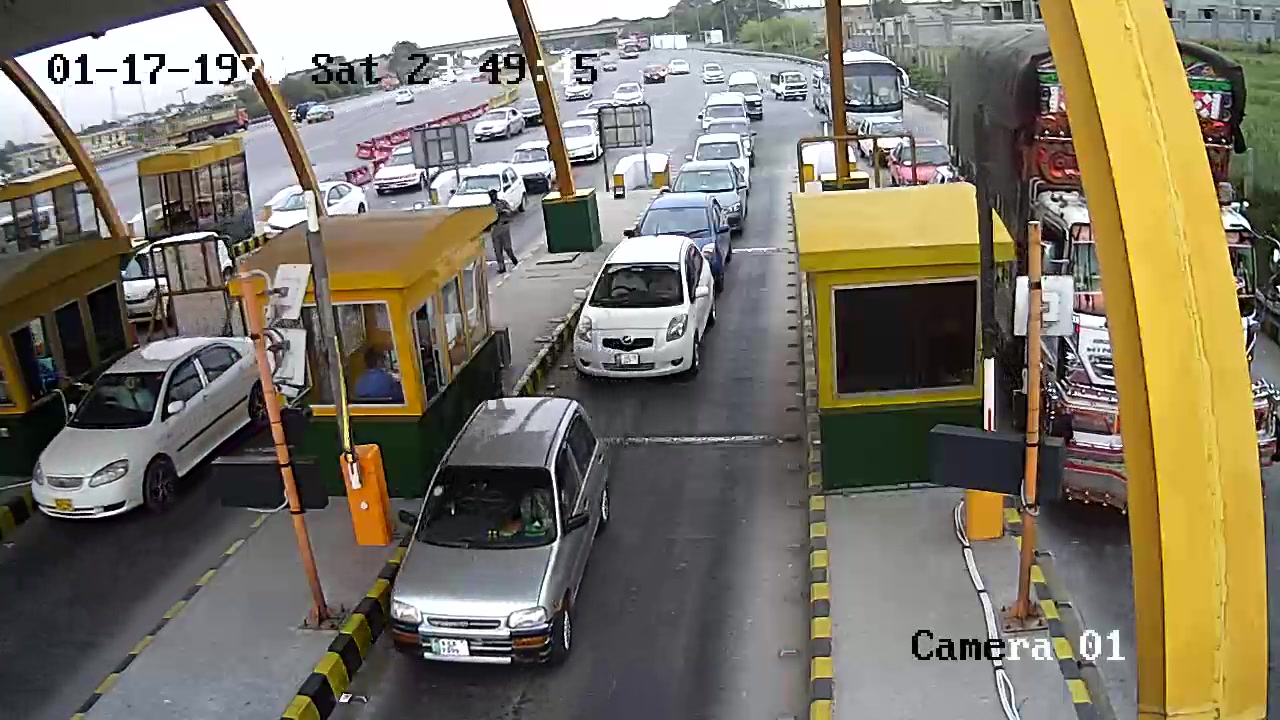F1: (383, 396, 622, 673), (566, 235, 716, 385)
